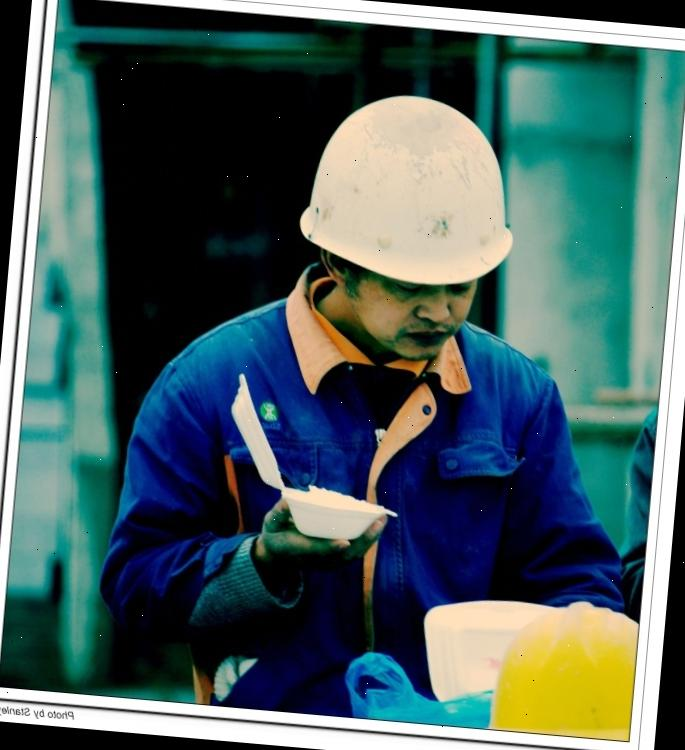helmet: (291, 84, 522, 312)
wear: (172, 317, 562, 738)
